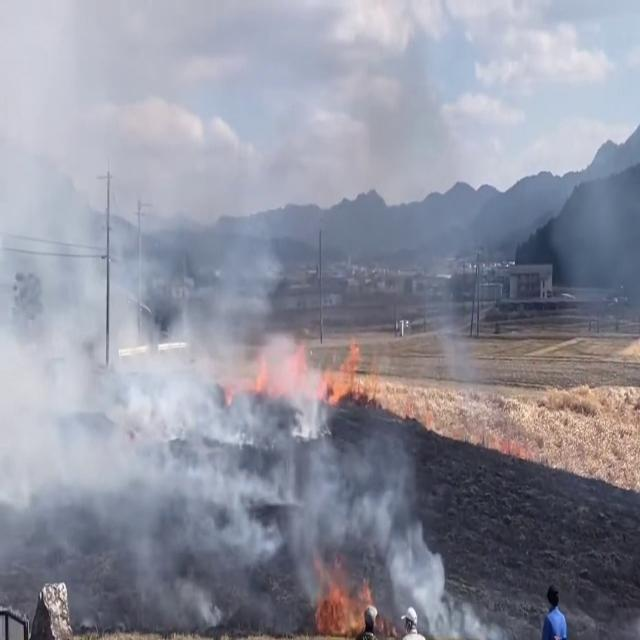Fire: (312, 560, 372, 636), (320, 327, 370, 400)
Smoke: (0, 80, 460, 639)
